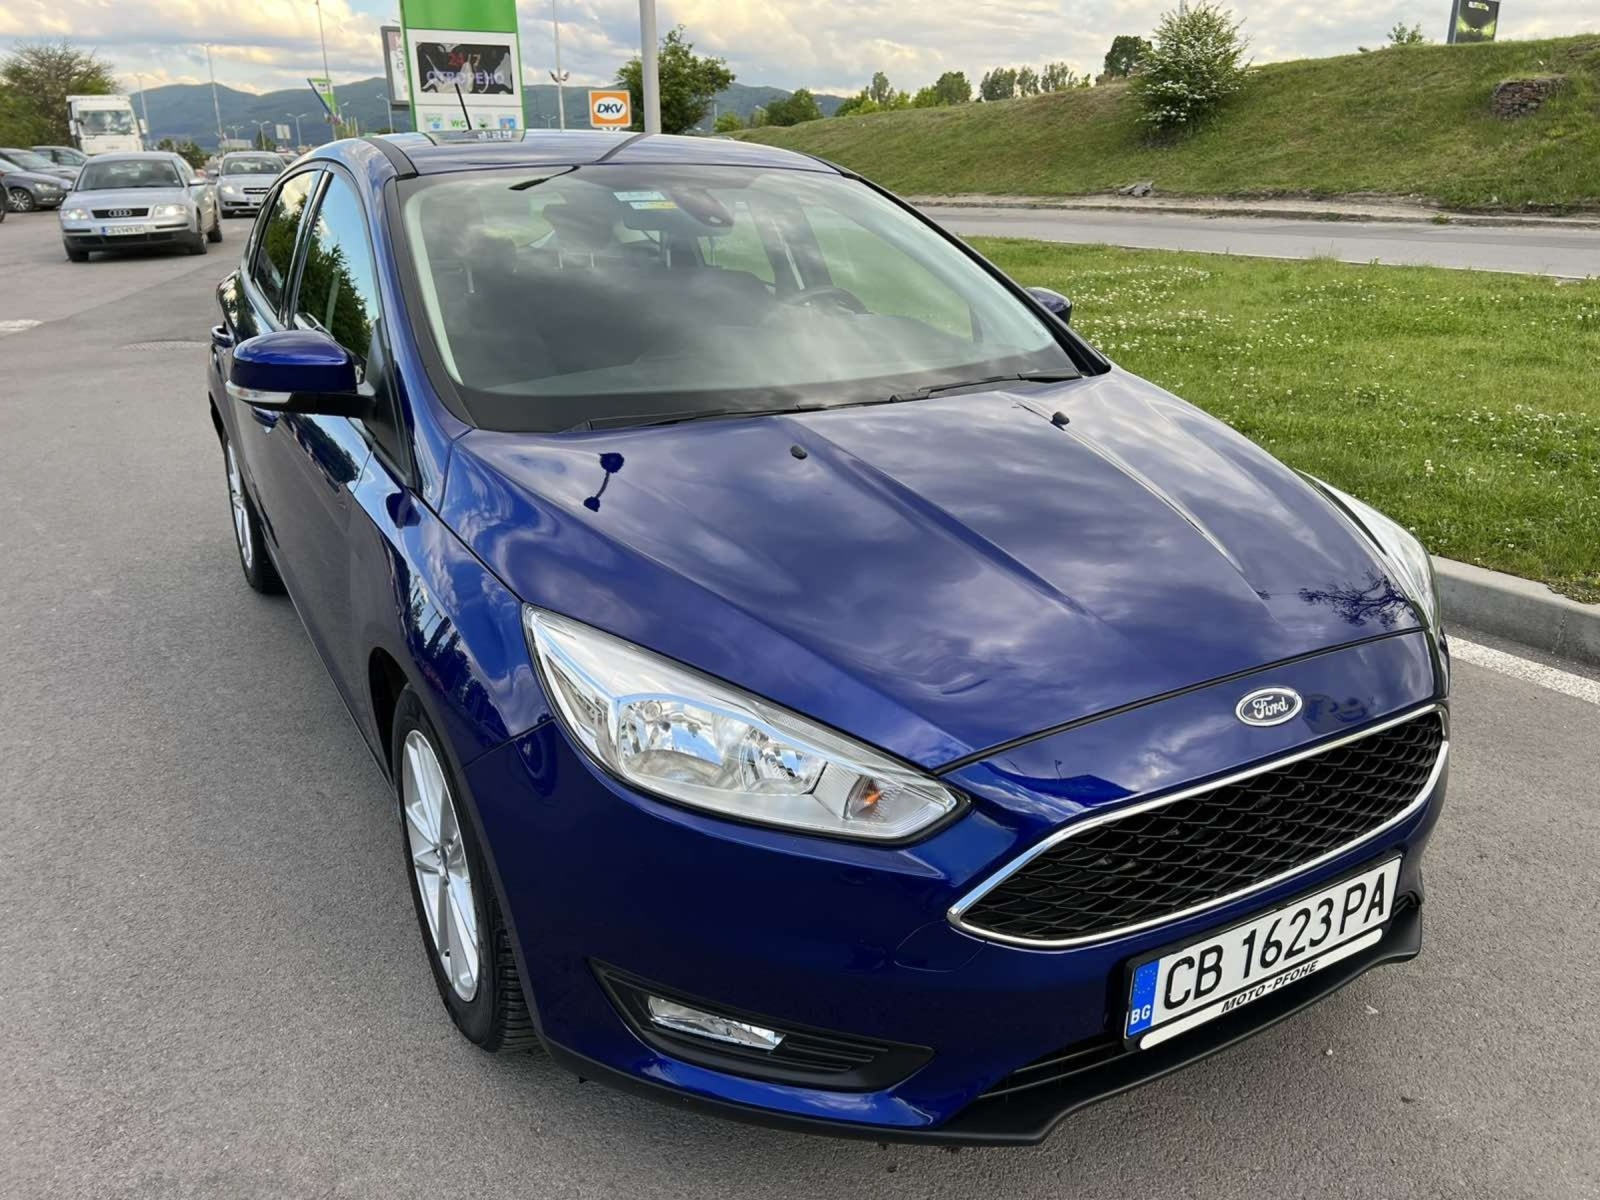registration_plate: (1118, 858, 1403, 1049)
